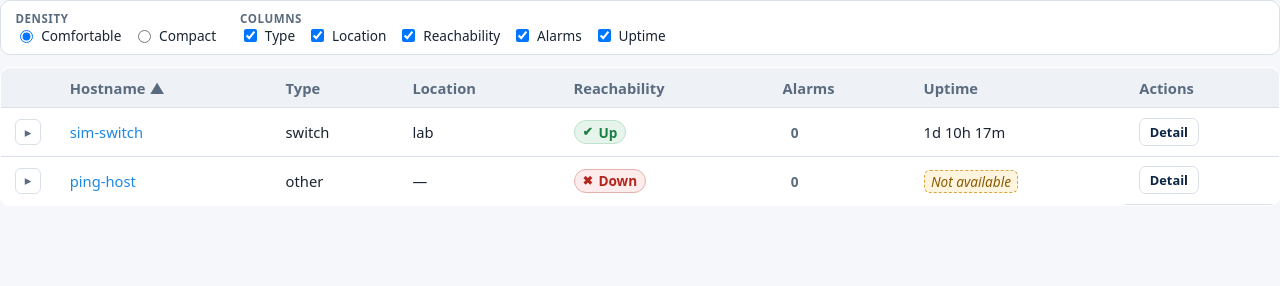
Scenario: DeviceTable (enhanced) › expands a row to reveal the KPI panel with real metrics
This screenshot has width=1280, height=286.
Click the button named "expand sim-switch" at (28, 132), box top-left (15, 119), bottom-right (41, 145)
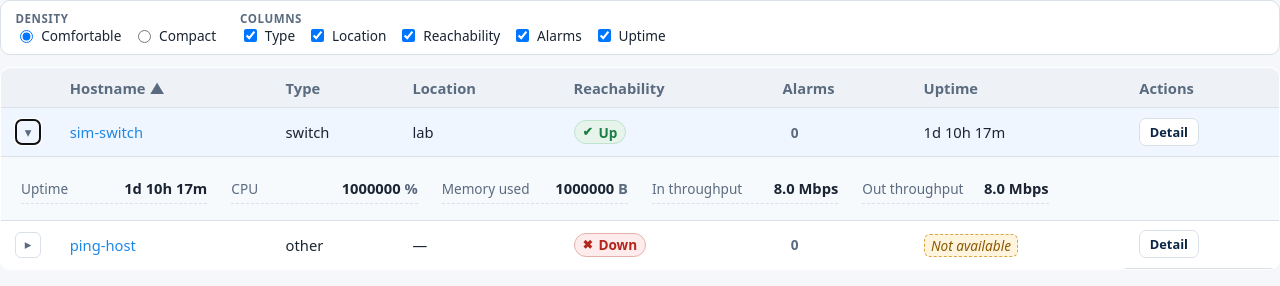
Expected: the text "Uptime" is shown, top-left (21, 179), bottom-right (68, 198)
Expected: the text "CPU" is shown, top-left (231, 179), bottom-right (258, 198)
